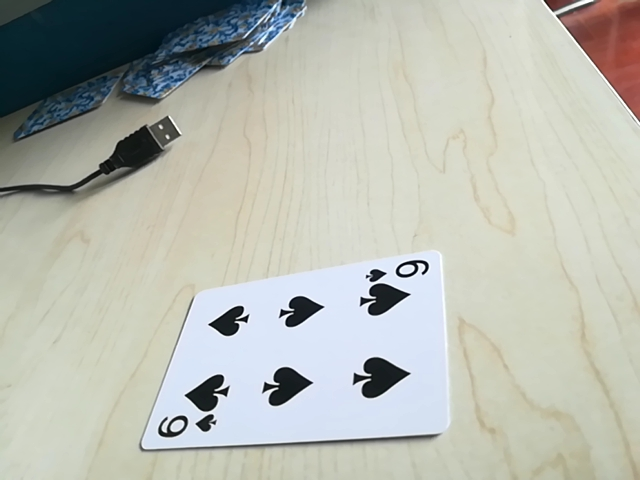ht 6: (150, 410, 220, 447), (366, 257, 433, 286)
